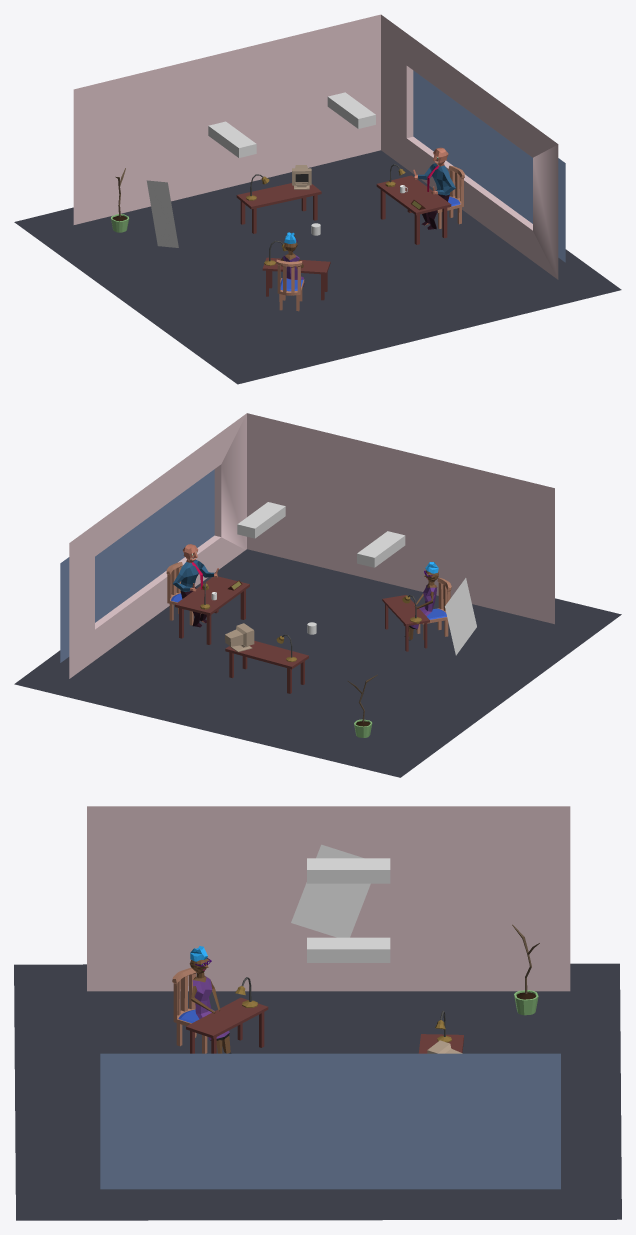
The model's file is Office.gltf.
The picture shows the model from 3 angles, top to bottom: view 1: azimuth 30°, elevation 25°; view 2: azimuth 150°, elevation 25°; view 3: azimuth 270°, elevation 25°; orthographic projection. The views are drawn at different scales.
Parts seen in each view (by area): view 1: Floor, Walls_01, Sky, Desk, Desk.001, Poster, Boss, CeilingFixture_01, CeilingFixture_02, Chair.002, Desk.002, Chair.001 (+1 smaller); view 2: Floor, Walls_02, Walls_01, Sky, Desk, Desk.001, Poster, Boss, CeilingFixture_01, CeilingFixture_02, Desk.002, Chair.002 (+3 smaller); view 3: Walls_02, Floor, Sky, Poster, CeilingFixture_01, CeilingFixture_02, Desk.002, Secretary, Chair.002, Cylinder.
Part boxes in pixels (bbox=[...]): Floor: bbox=[14, 150, 621, 384]; Walls_01: bbox=[73, 14, 558, 279]; Sky: bbox=[413, 70, 565, 262]; Desk: bbox=[376, 175, 451, 244]; Desk.001: bbox=[236, 183, 321, 233]; Poster: bbox=[146, 180, 178, 247]; Boss: bbox=[413, 147, 455, 229]; CeilingFixture_01: bbox=[208, 121, 256, 157]; CeilingFixture_02: bbox=[327, 92, 375, 128]; Chair.002: bbox=[276, 259, 304, 311]; Desk.002: bbox=[262, 257, 330, 300]; Chair.001: bbox=[437, 165, 464, 228]; Floor: bbox=[14, 549, 621, 777]; Walls_02: bbox=[247, 413, 554, 624]; Walls_01: bbox=[69, 413, 246, 678]; Sky: bbox=[60, 469, 214, 662]; Desk: bbox=[175, 576, 249, 644]; Desk.001: bbox=[225, 641, 308, 693]; Poster: bbox=[445, 578, 476, 655]; Boss: bbox=[173, 544, 218, 627]; CeilingFixture_01: bbox=[357, 531, 405, 567]; CeilingFixture_02: bbox=[237, 502, 285, 538]; Desk.002: bbox=[382, 595, 429, 651]; Chair.002: bbox=[416, 577, 451, 639]; Walls_02: bbox=[87, 806, 570, 991]; Floor: bbox=[14, 963, 621, 1220]; Sky: bbox=[100, 1053, 560, 1189]; Poster: bbox=[291, 844, 370, 937]; CeilingFixture_01: bbox=[307, 858, 390, 883]; CeilingFixture_02: bbox=[307, 937, 390, 962]; Desk.002: bbox=[186, 997, 268, 1053]; Secretary: bbox=[189, 946, 231, 1053]; Chair.002: bbox=[172, 968, 207, 1053]; Cylinder: bbox=[512, 924, 539, 1015].
Bounding box in the file's own units: 26.29 × 9.42 × 26.29.
